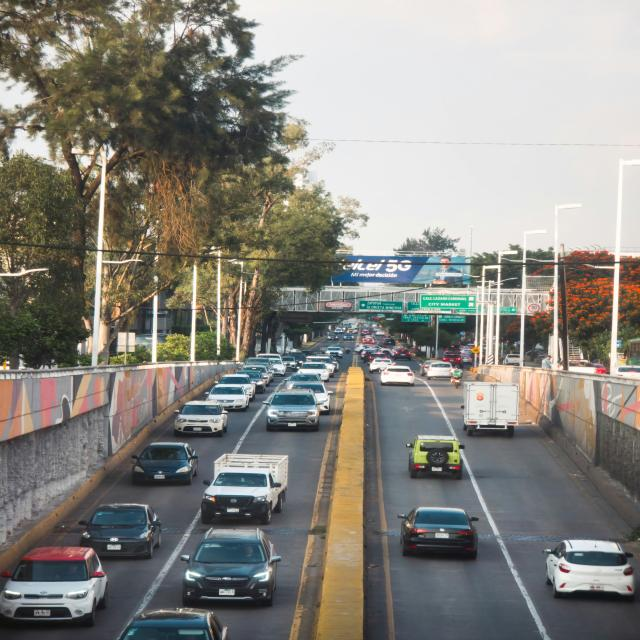Car: (0, 547, 107, 626), (181, 529, 280, 606), (201, 454, 288, 525), (543, 540, 635, 601), (79, 504, 161, 558), (399, 508, 478, 558), (119, 608, 228, 639), (132, 443, 198, 484), (407, 436, 464, 479), (264, 389, 319, 431), (174, 400, 227, 436), (287, 382, 332, 414), (214, 372, 255, 401), (208, 385, 250, 411), (244, 358, 274, 382), (308, 354, 339, 377), (240, 364, 272, 386), (299, 359, 330, 381), (381, 366, 414, 386), (241, 369, 268, 393), (257, 354, 285, 376), (569, 360, 606, 374), (603, 365, 640, 379), (425, 362, 453, 379), (287, 373, 321, 385), (369, 357, 392, 372), (420, 360, 441, 376), (442, 353, 463, 368), (135, 334, 153, 351), (362, 350, 385, 362), (282, 356, 298, 372), (360, 345, 380, 357), (393, 348, 411, 360), (327, 346, 343, 358), (503, 354, 520, 365), (295, 351, 307, 366), (592, 363, 607, 374), (461, 352, 473, 364), (379, 347, 392, 357), (285, 347, 301, 354), (446, 345, 460, 353), (355, 344, 367, 353), (392, 344, 404, 352), (362, 337, 375, 344), (343, 334, 355, 341), (383, 338, 395, 345), (315, 347, 326, 354), (460, 347, 472, 353), (328, 334, 339, 340), (343, 347, 351, 354), (361, 329, 370, 335), (335, 327, 344, 333), (376, 331, 384, 336)
